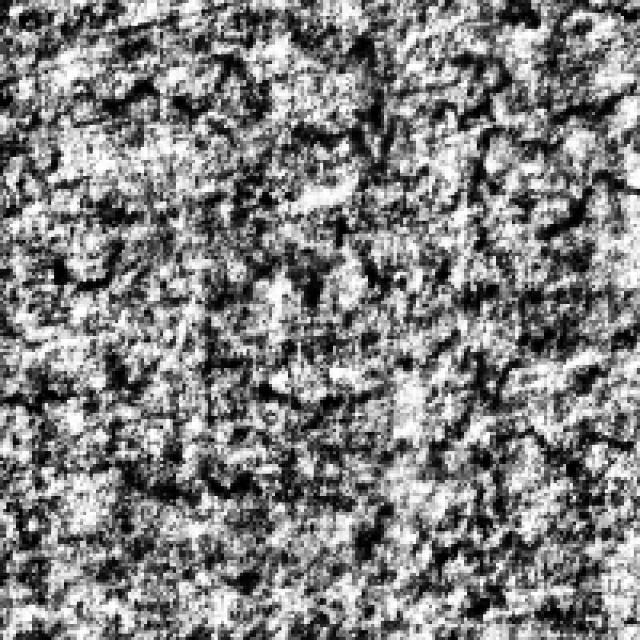Pitted_Surface: (106, 102, 534, 506), (35, 80, 634, 304), (413, 0, 637, 397)
